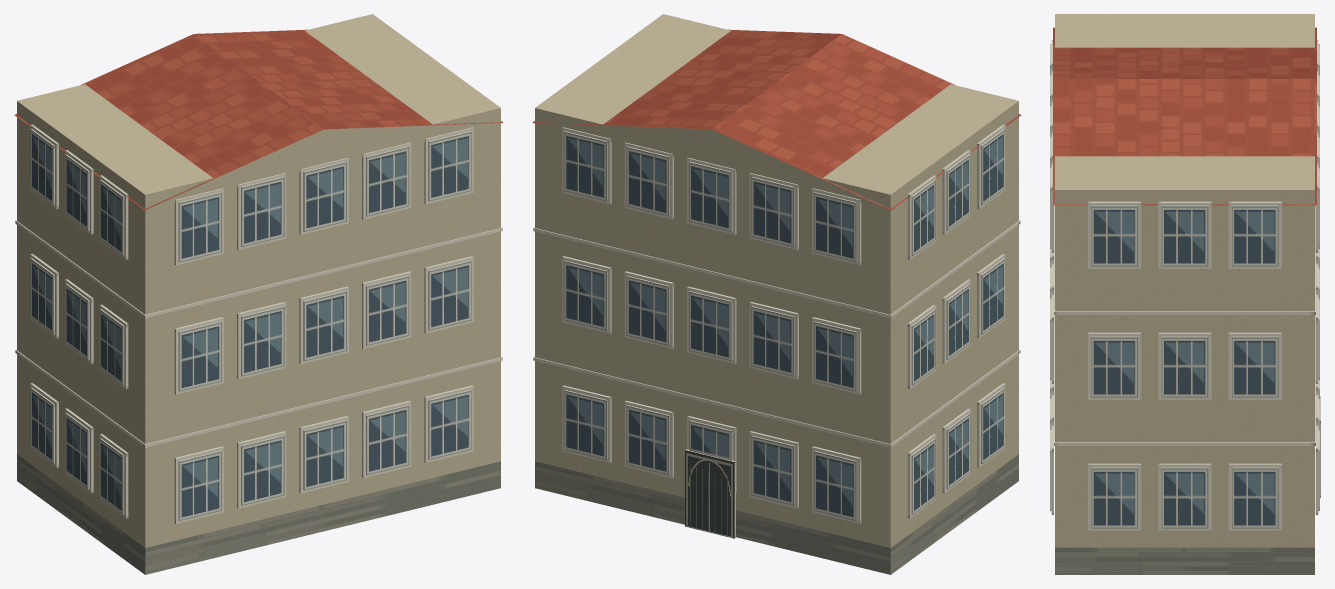
The model's file is SM_QD_School_CornerWing.fbx.
3 views of the same model, side by side, from view 1: azimuth 30°, elevation 25°; view 2: azimuth 150°, elevation 25°; view 3: azimuth 270°, elevation 25° (orthographic).
Visible parts, largest first — view 1: SM_QD_School_CornerWing; view 2: SM_QD_School_CornerWing; view 3: SM_QD_School_CornerWing.
Part boxes in pixels (box(x1,y1,x2,y2)): SM_QD_School_CornerWing: box(14, 14, 503, 574); SM_QD_School_CornerWing: box(532, 14, 1021, 574); SM_QD_School_CornerWing: box(1050, 14, 1320, 574).
Bounding box in the file's own units: 7.37 × 4.69 × 7.79.
